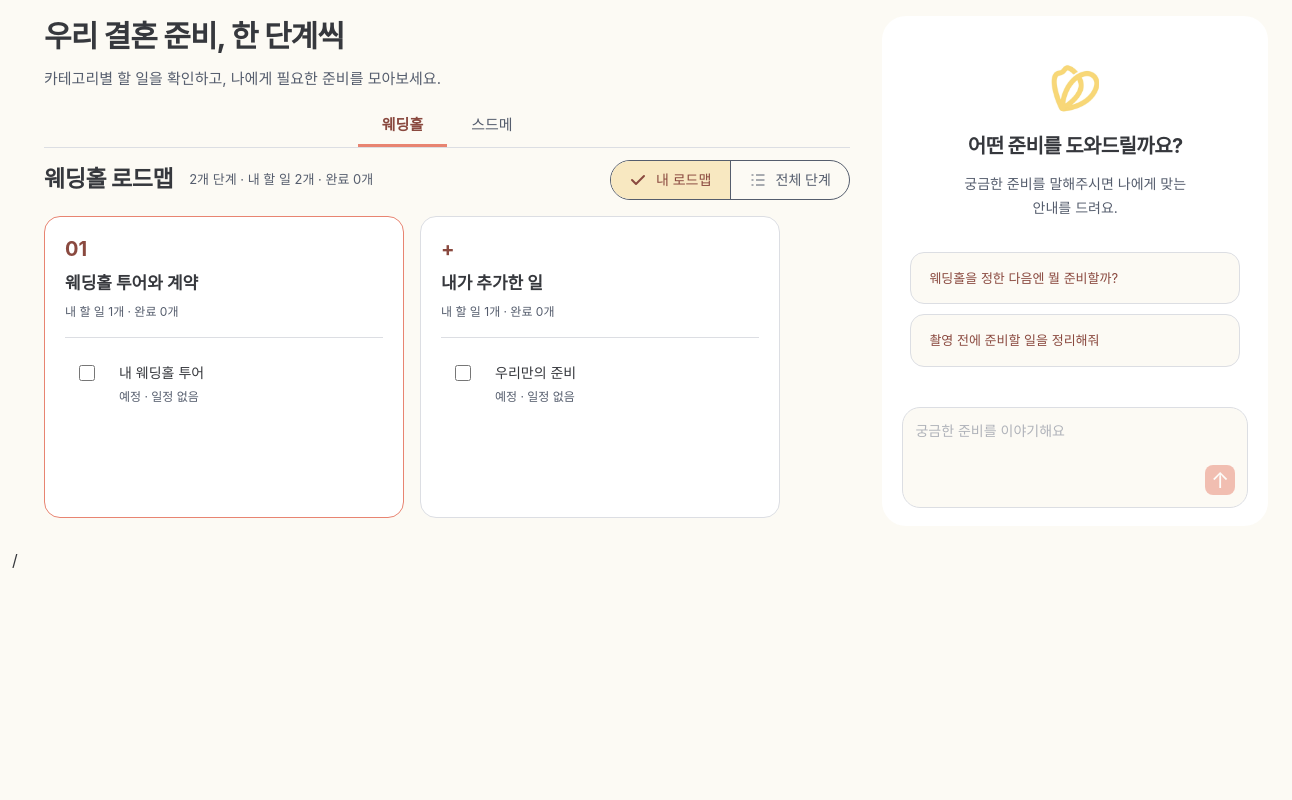
Scenario: 준비 로드맵 보기 전환 › 내 로드맵과 전체 단계 전환 시 카테고리 선택과 연결 영역을 유지한다
Expected: the heading "웨딩홀 로드맵" is shown, left=44, top=163, right=173, bottom=196
Click the button "스드메" at (492, 124), box left=447, top=102, right=537, bottom=146
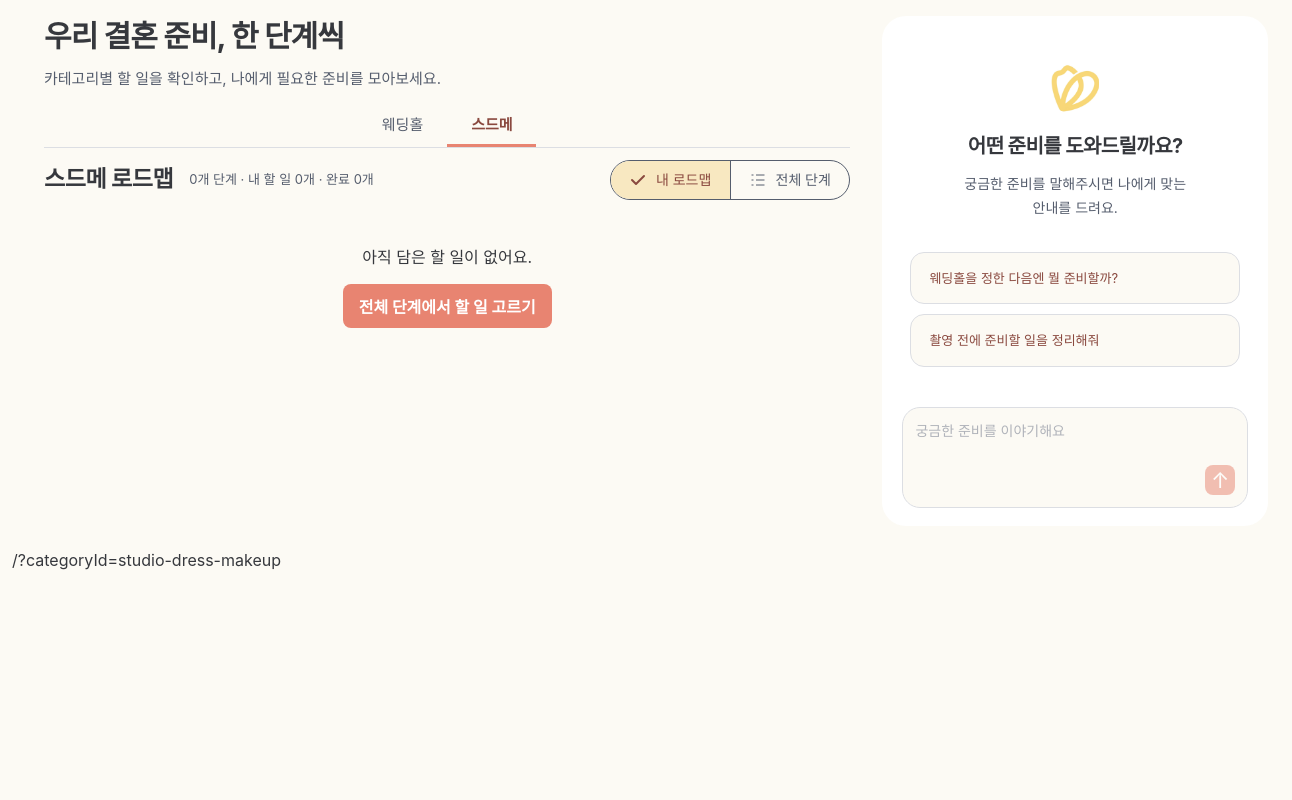
Result: the text "아직 담은 할 일이 없어요." is shown at left=362, top=244, right=532, bottom=268
Click the button "전체 단계에서 할 일 고르기" at (447, 306), box left=343, top=284, right=552, bottom=328
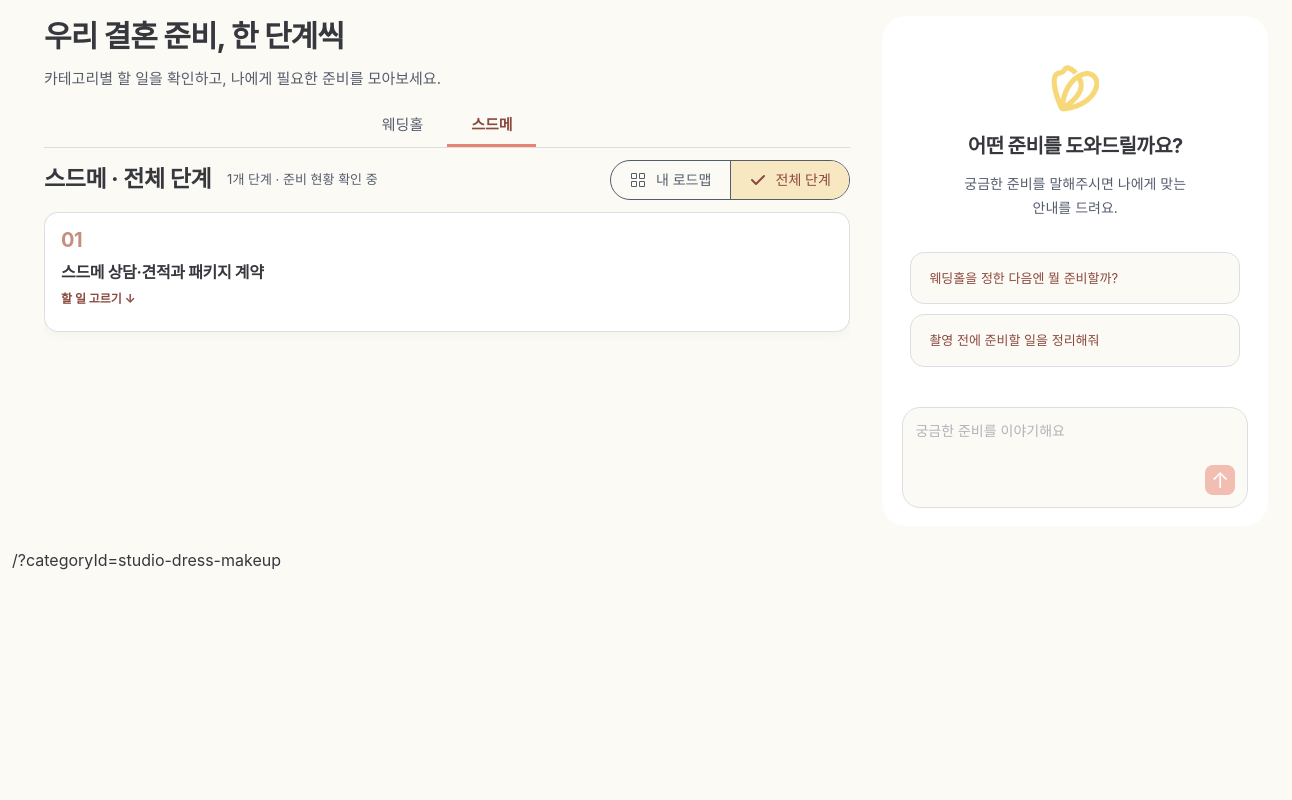
Result: the button "01 스드메 상담·견적과 패키지 계약 할 일 고르기 ↓" is shown at left=44, top=212, right=850, bottom=332
Click the button "웨딩홀" at (402, 124), box left=358, top=102, right=447, bottom=146
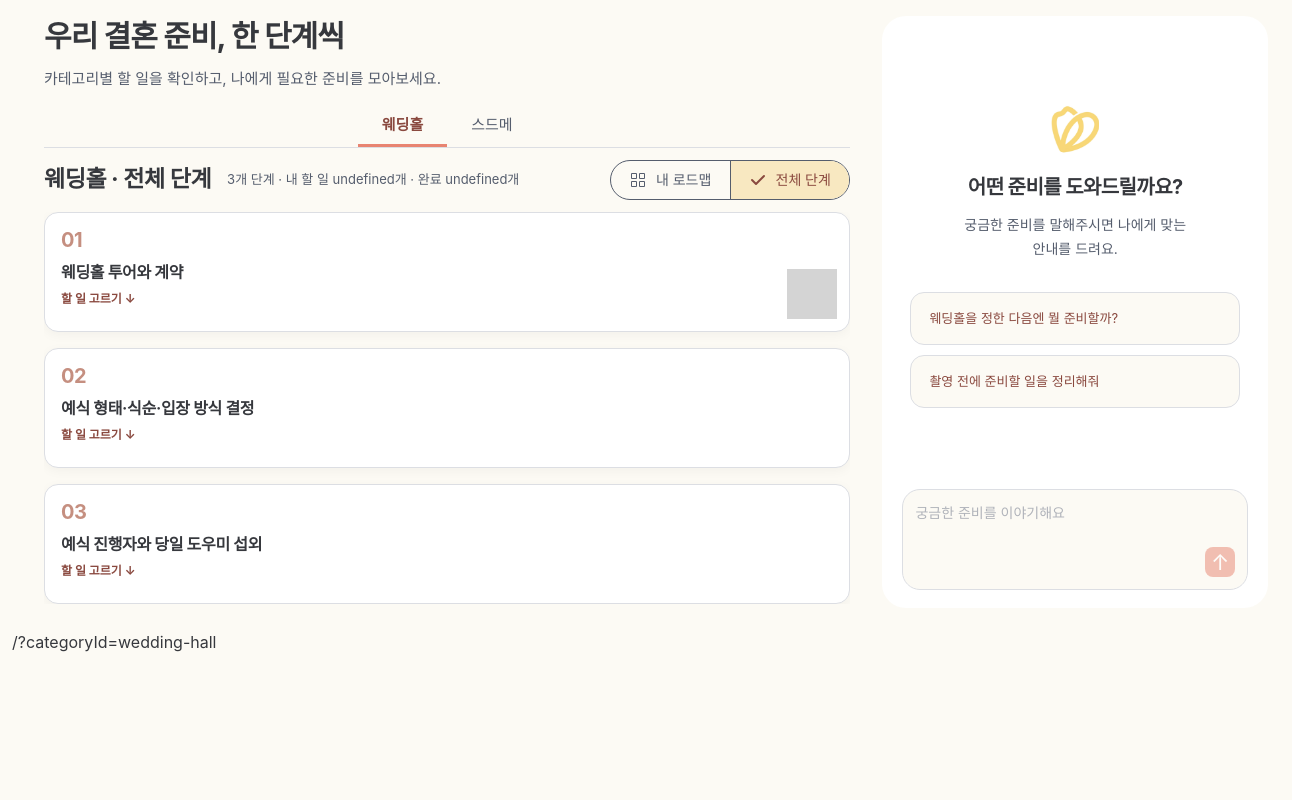
Result: the heading "웨딩홀 · 전체 단계" is shown at left=44, top=163, right=211, bottom=196
Click the button "내 로드맵" at (671, 180), box left=611, top=160, right=730, bottom=198
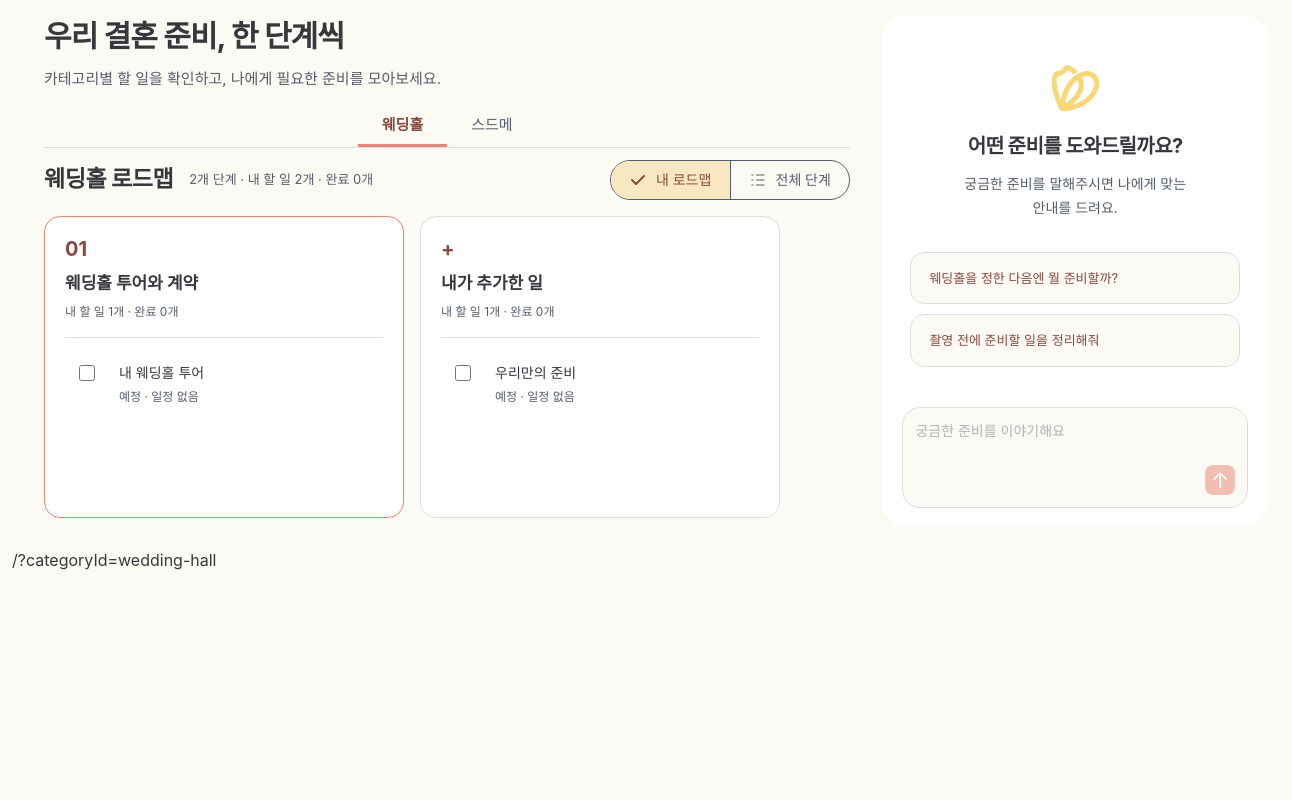
Expected: the list "웨딩홀 스드메" is shown, left=358, top=102, right=537, bottom=146
Result: the heading "웨딩홀 로드맵" is shown at left=44, top=163, right=173, bottom=196
